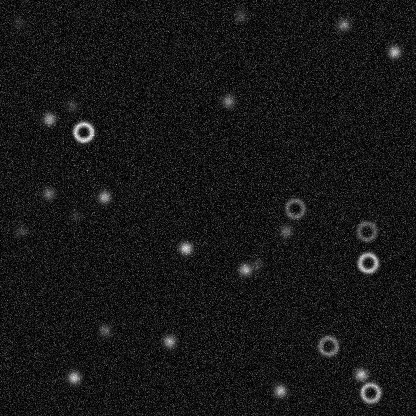Ring: (316, 333, 340, 357), (71, 119, 95, 143), (354, 219, 378, 243), (358, 380, 382, 404), (282, 196, 306, 220), (355, 250, 379, 274)
Spot: (271, 382, 287, 398), (13, 222, 29, 238), (96, 188, 112, 204), (177, 240, 193, 256), (65, 369, 81, 385), (335, 16, 351, 32), (352, 366, 368, 382), (248, 256, 264, 272), (232, 7, 248, 23), (277, 222, 293, 238), (96, 322, 112, 338), (67, 207, 83, 223), (41, 110, 57, 126), (11, 15, 27, 31), (237, 261, 253, 277), (161, 333, 177, 349), (64, 97, 80, 113), (220, 93, 236, 109), (40, 185, 56, 201), (386, 43, 402, 59)
